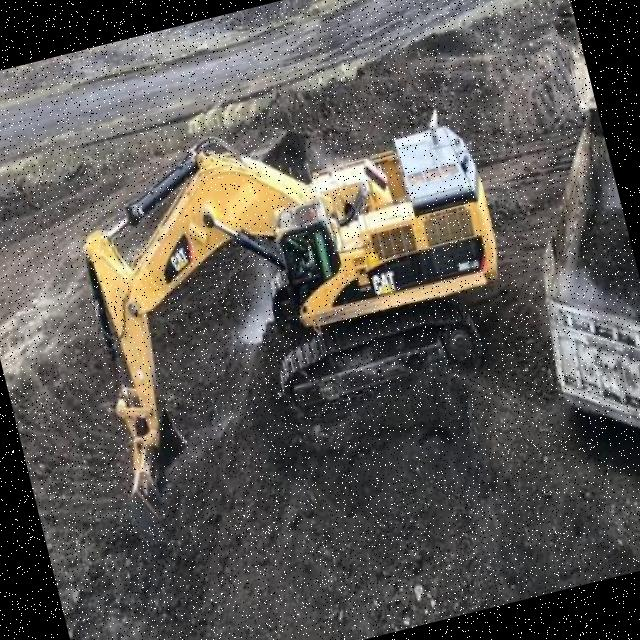Dump Truck: (489, 108, 640, 499), (539, 0, 594, 105)
Excavator: (42, 72, 556, 550)
